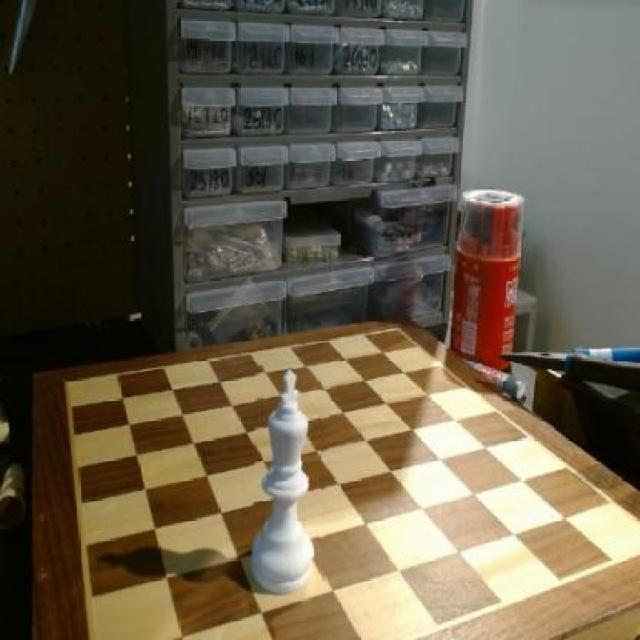white-bishop: (252, 366, 330, 593)
